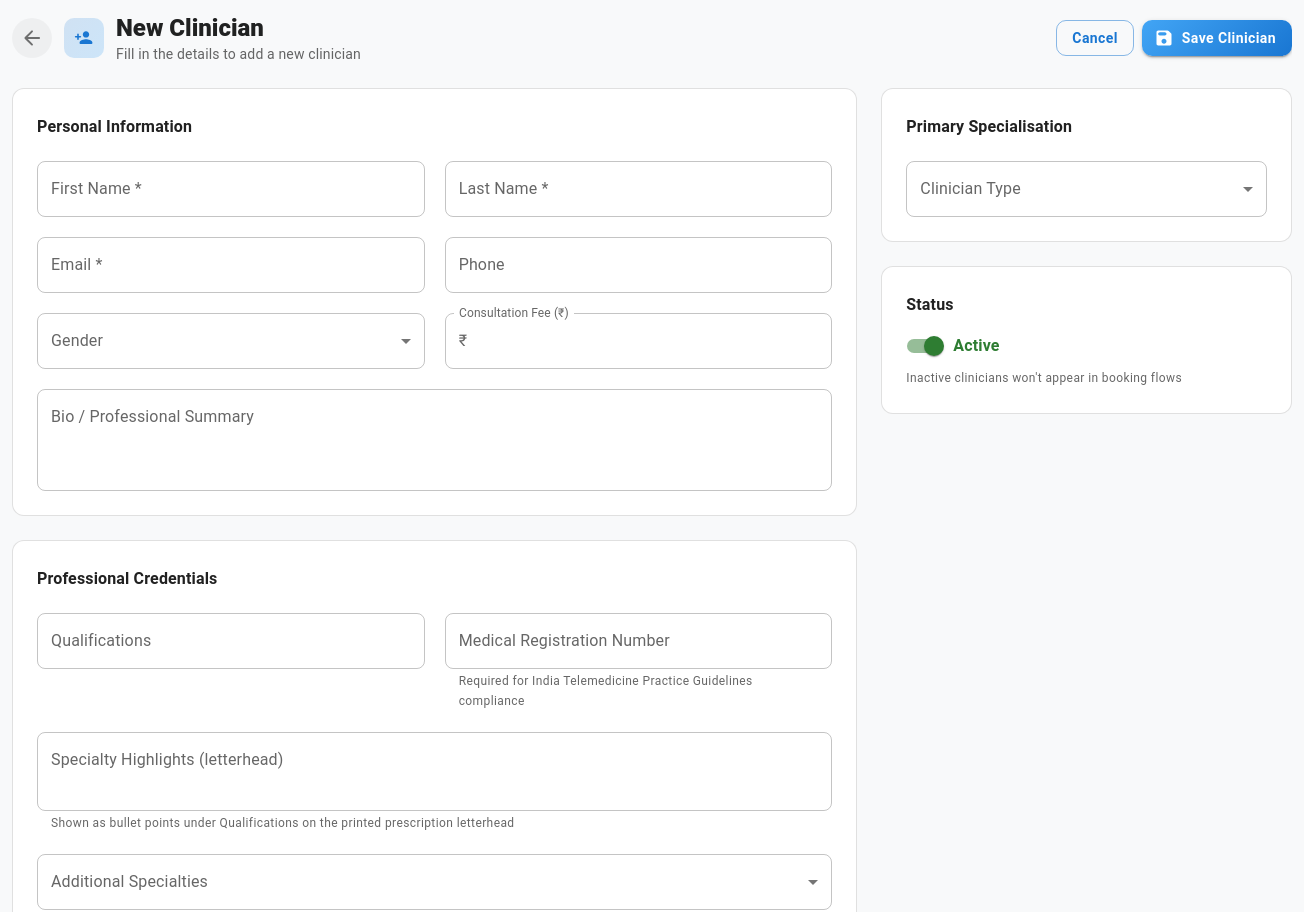
clinicians/CreateClinicianPage (REQ141) › shows a real error toast, not a fake success, when the mutation fails
Type "Sarah" into the field labelled "First Name *". click: (231,189)
box: [37, 161, 425, 217]
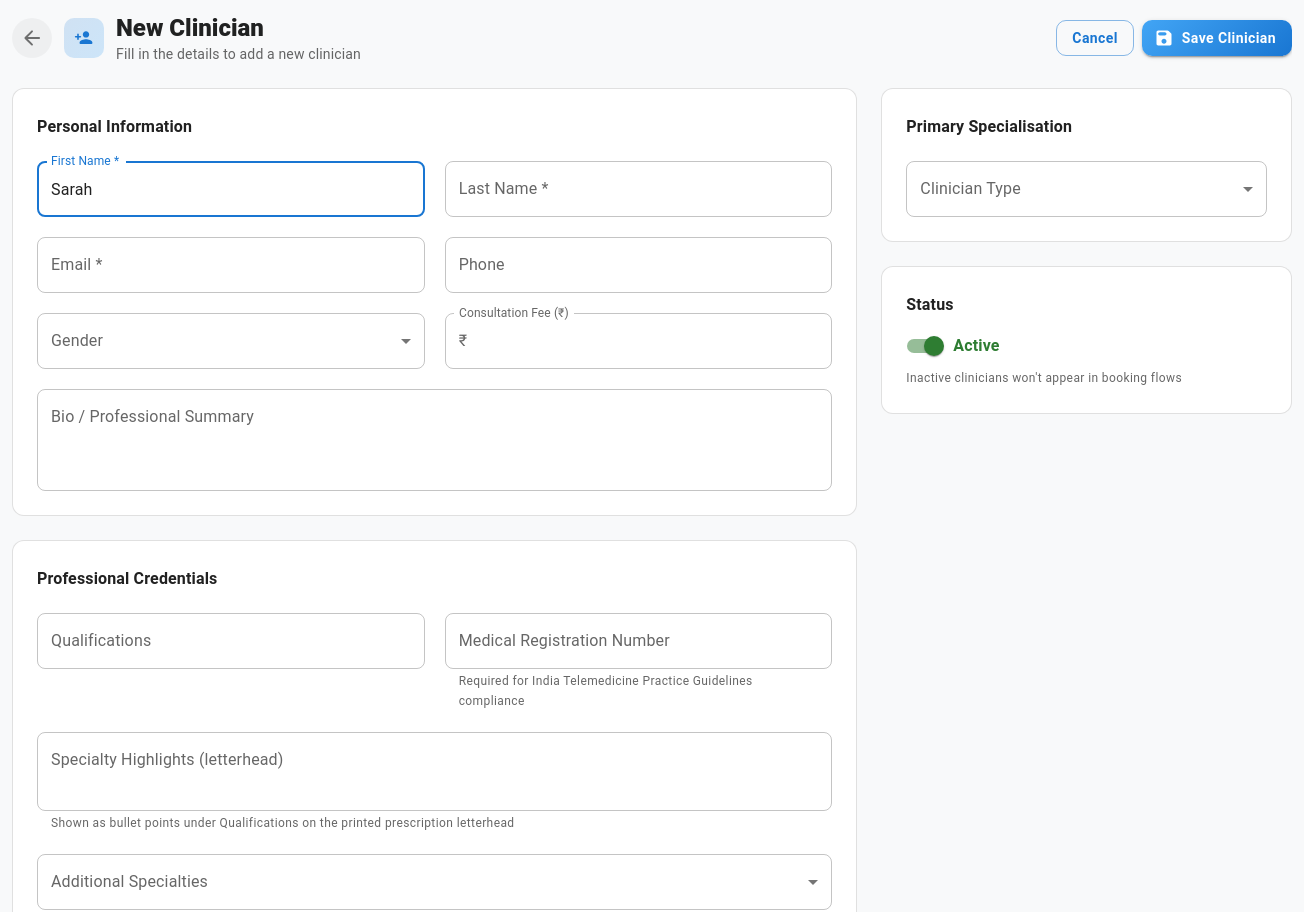
Type "Mitchell" into the field labelled "Last Name *". click: (639,189)
box: [445, 161, 832, 217]
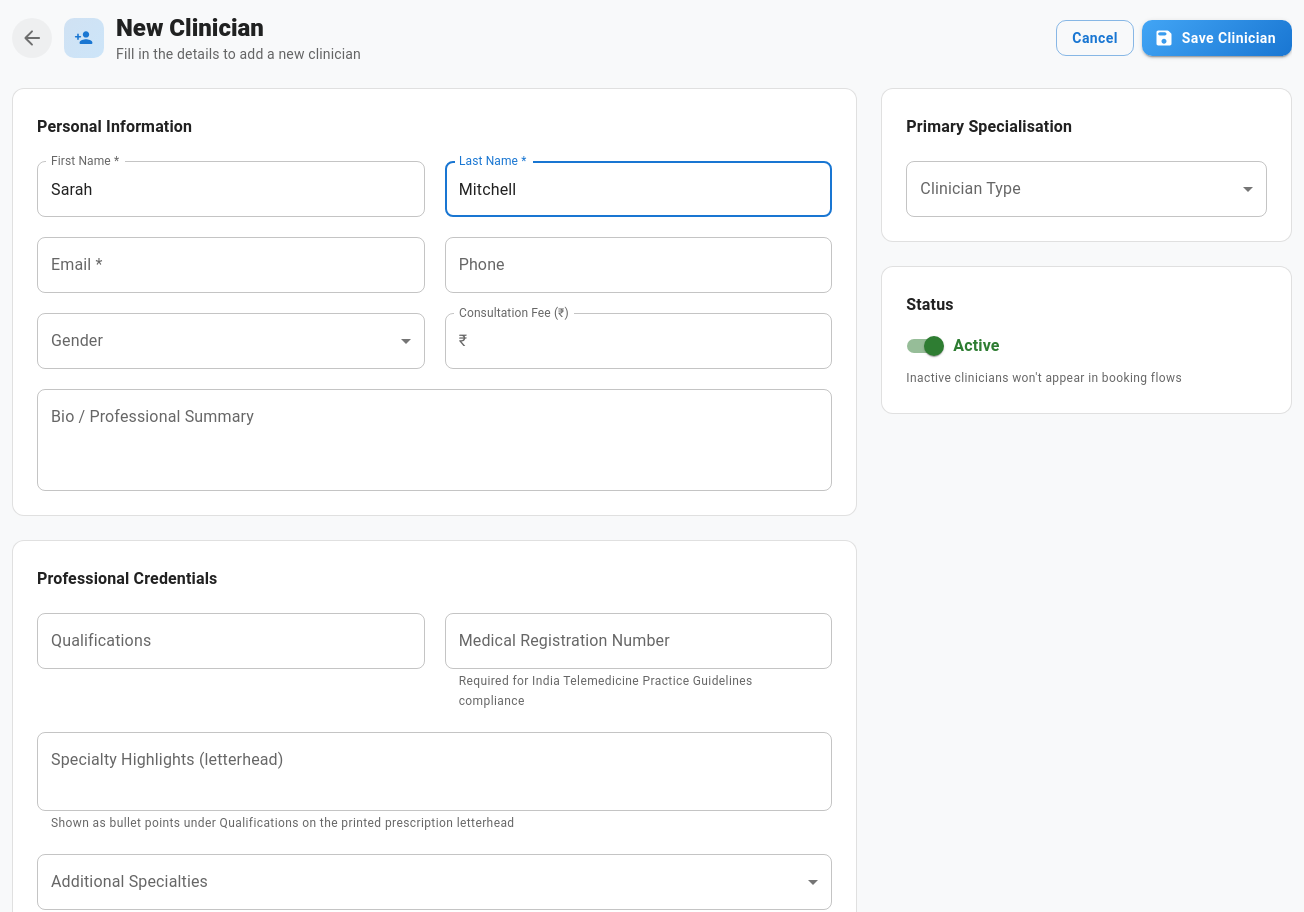
Type "sarah@example.com" into the field labelled "Email *". click: (231,265)
box: [37, 237, 425, 293]
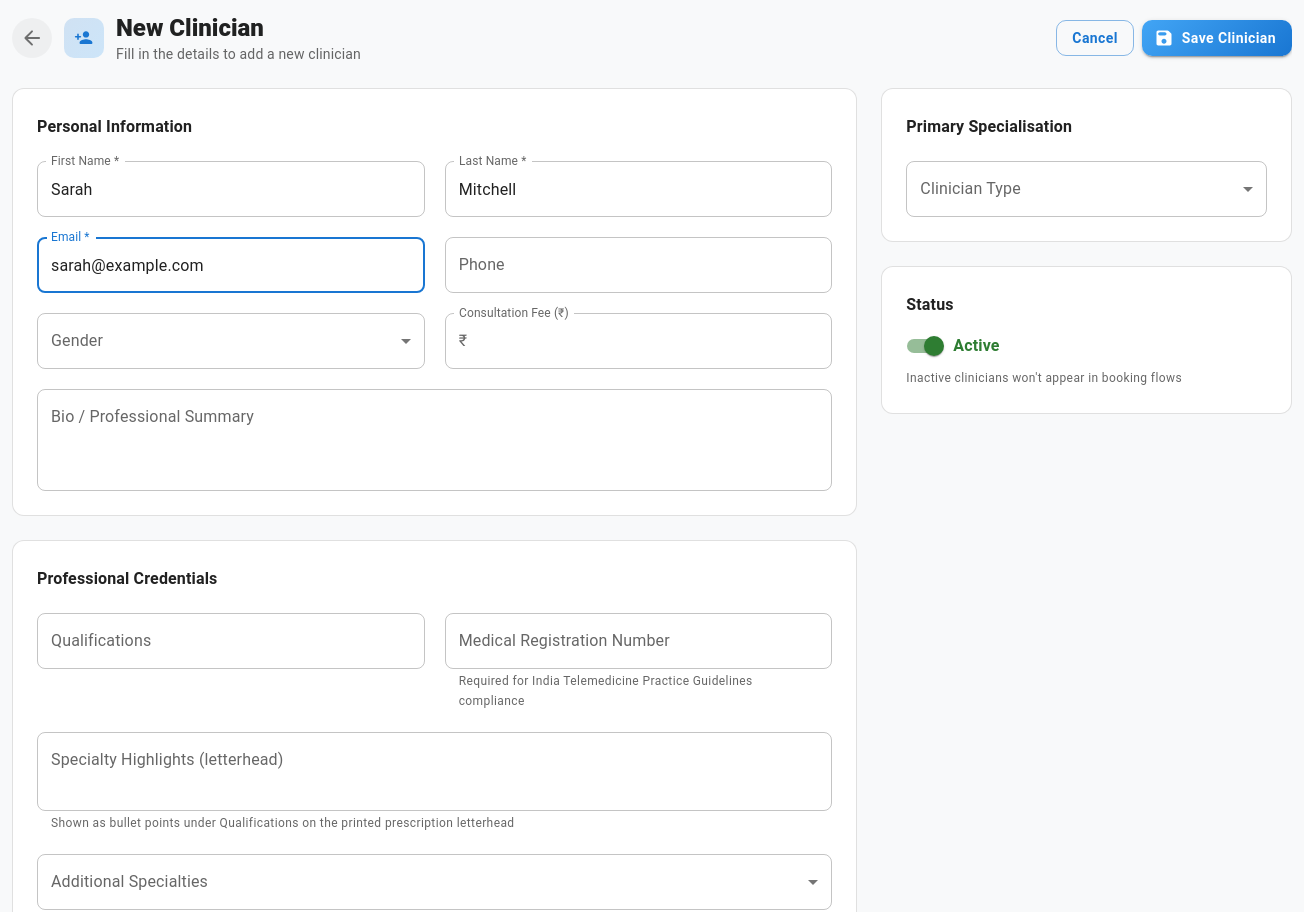
Click the button "Save Clinician". click: (1217,38)
box: [1142, 20, 1292, 56]
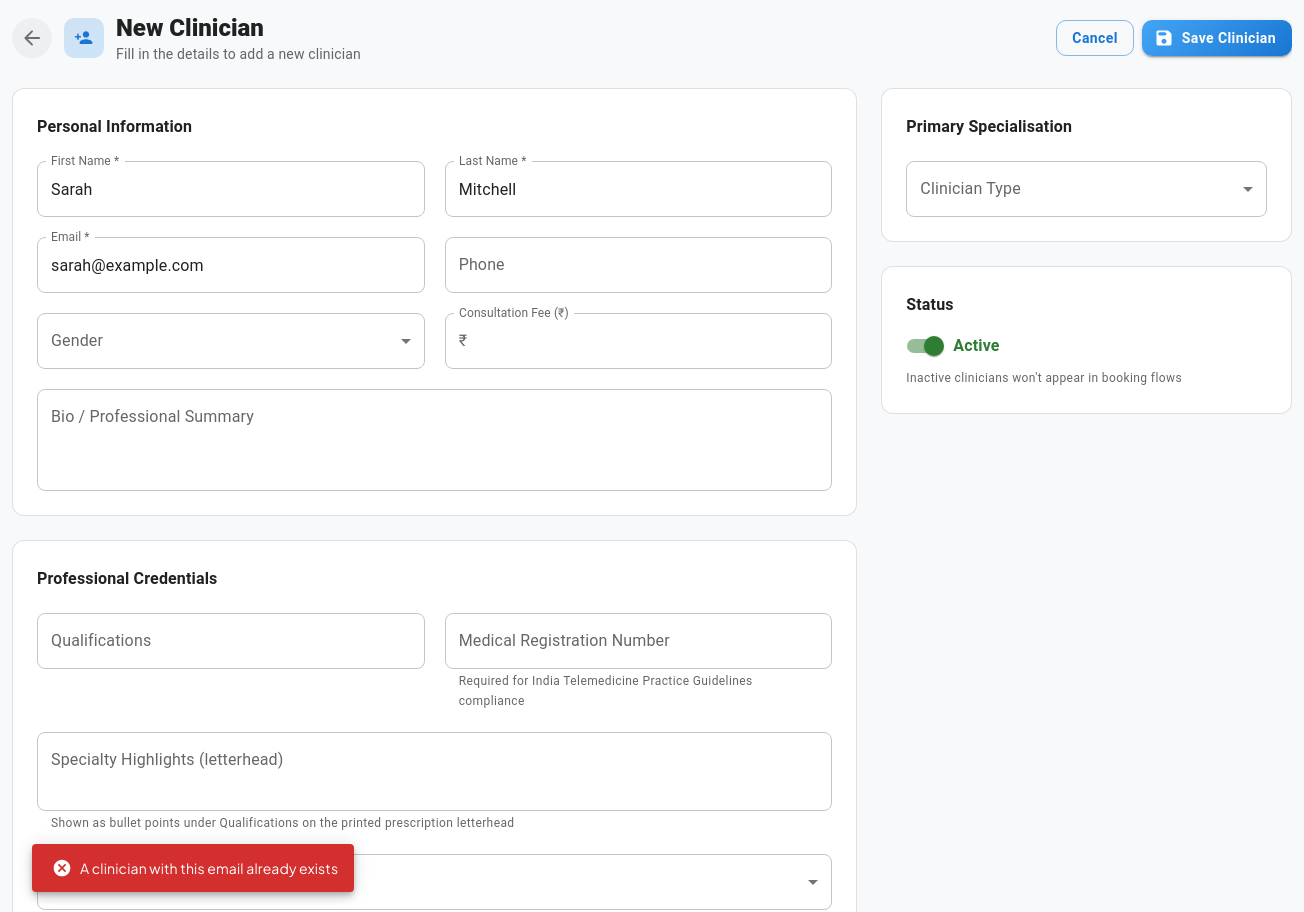
Expected: the text "A clinician with this email already exists" is shown, [52, 858, 338, 878]
